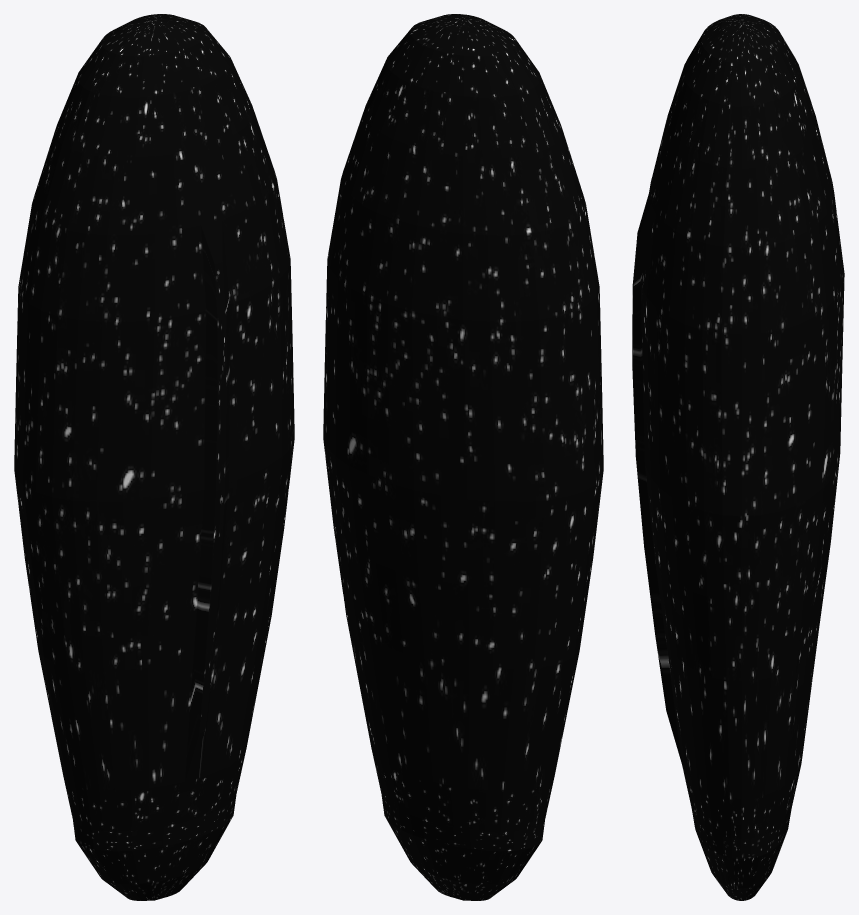
Rendered from huevesillo3.glb.
The picture shows the model from 3 angles, left to right: view 1: azimuth 30°, elevation 25°; view 2: azimuth 150°, elevation 25°; view 3: azimuth 270°, elevation 25°; orthographic projection.
Visible parts, largest first — view 1: Esfera; view 2: Esfera; view 3: Esfera.
Part boxes in pixels (box(x1,y1,x2,y2)): Esfera: box(14, 14, 294, 900); Esfera: box(323, 14, 603, 900); Esfera: box(632, 14, 844, 900).
Size of the model in its own units: 1.24 by 3.97 by 0.8719.
1 material, 1 textured.
